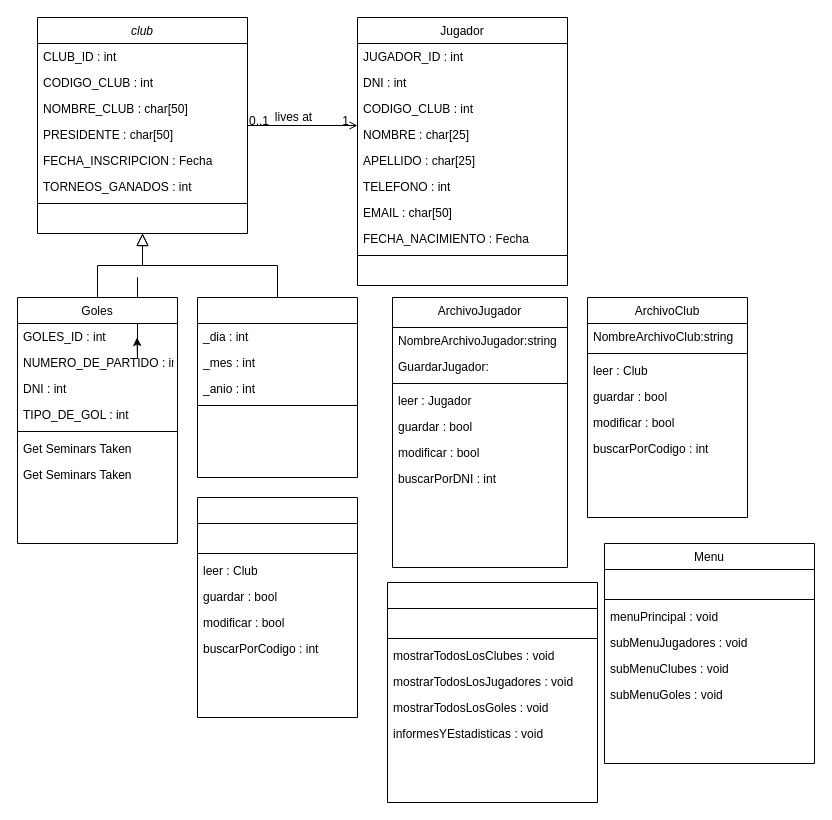
Image size: 832x820. Some labels were removed from this diagram. The box of each missing label's shape, as (x1, y1, x2, y2) in pixels:
ArchivoGoles: (196, 496, 358, 718)
Fecha: (196, 296, 358, 478)
LigaManager: (386, 582, 598, 802)
